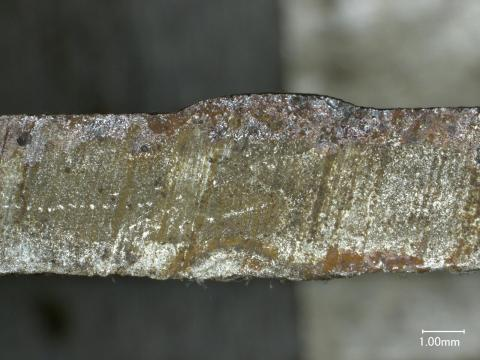test: (179, 93, 360, 113)
